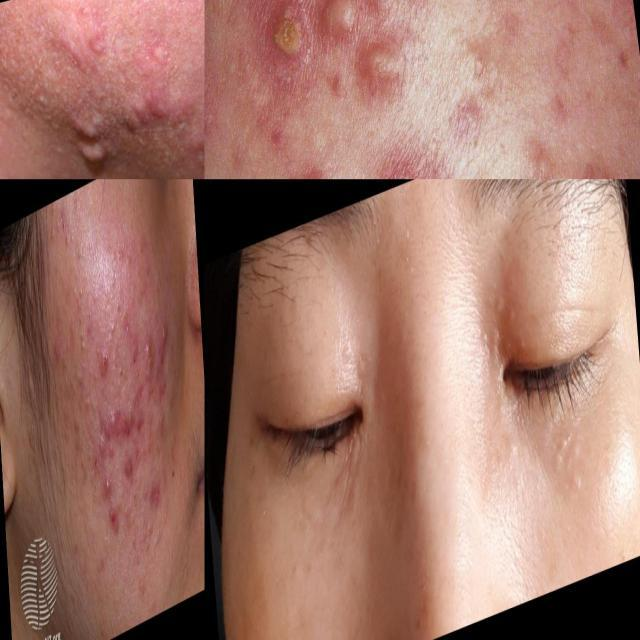Pimples: (313, 0, 422, 117), (262, 0, 316, 101), (120, 78, 180, 140), (338, 317, 380, 403), (68, 100, 114, 178), (57, 13, 101, 85), (484, 276, 514, 323), (120, 392, 144, 450), (141, 318, 155, 398), (147, 471, 163, 515), (124, 446, 136, 496), (157, 316, 170, 360), (108, 496, 121, 540), (108, 398, 120, 439), (102, 463, 114, 501), (504, 332, 516, 359), (564, 454, 575, 476)
